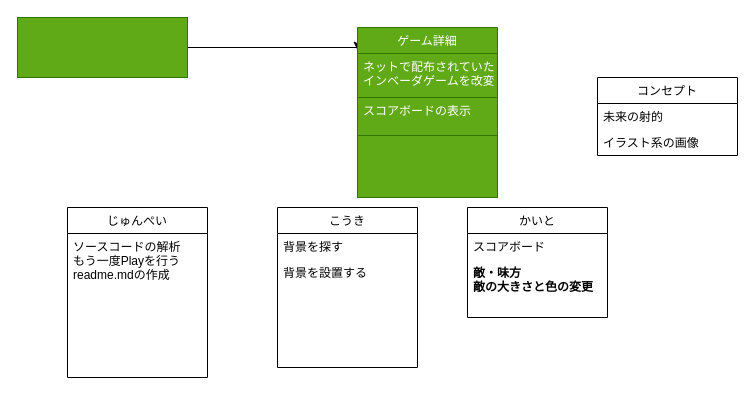
The diagram is 755 pixels wide and 398 high, and some of its shapes have lost their labels. The shapes that lost their labels are listed below. From the top down, each one's centre as x and y in pixels, then its label:
At [102,47]: "射的ゲーム フローチャート".
At [427,166]: "敵によってポイント や大きさが変わる Clearが邪魔".
